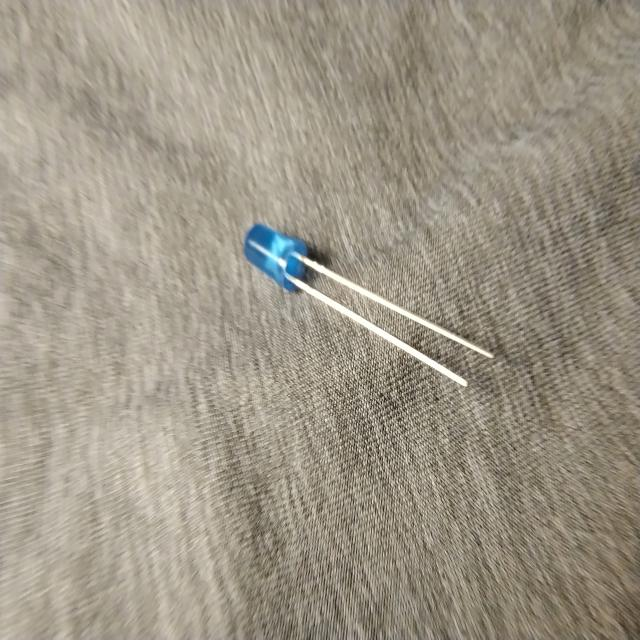blue_led: (243, 221, 308, 293)
